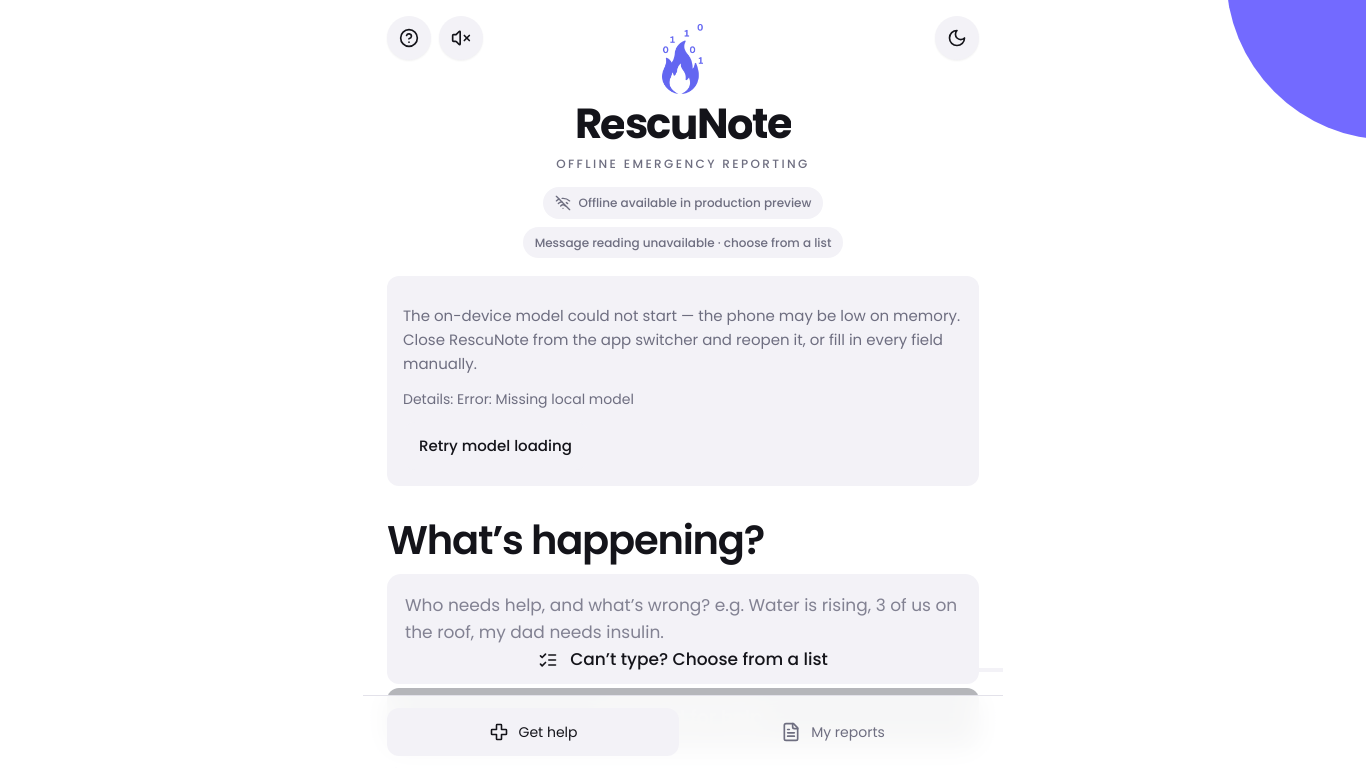
Scenario: keeps manual entry available after model failure and allows retry
Expected: the 3rd message shows "could not start", x1=403 y1=305 x2=960 y2=374
Expected: the button "Retry model loading" is enabled, x1=403 y1=422 x2=588 y2=470
Click the button "Can’t type? Choose from a list": x=683, y=660 x1=387 y1=636 x2=979 y2=684
(page scrolled)
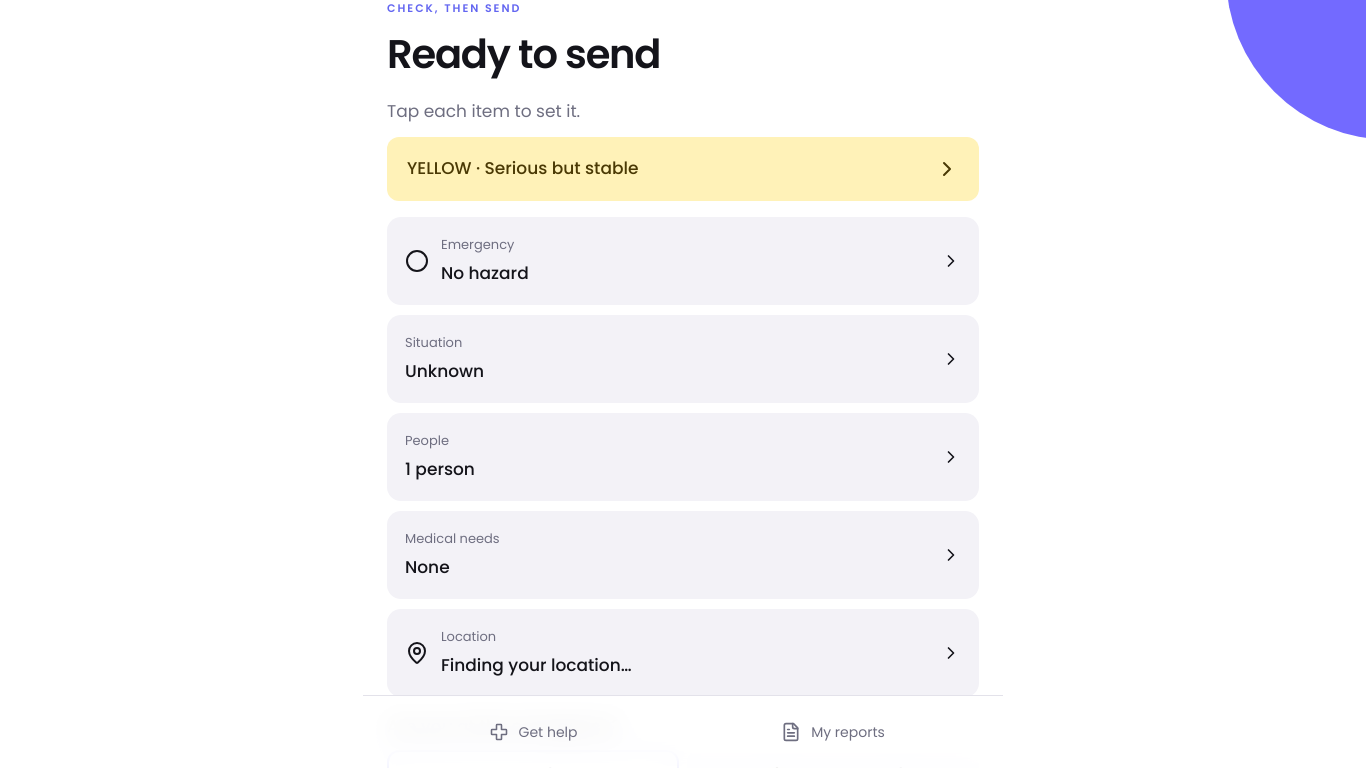
Now the text "Tap each item to set it." is shown, box x1=387 y1=99 x2=580 y2=123
